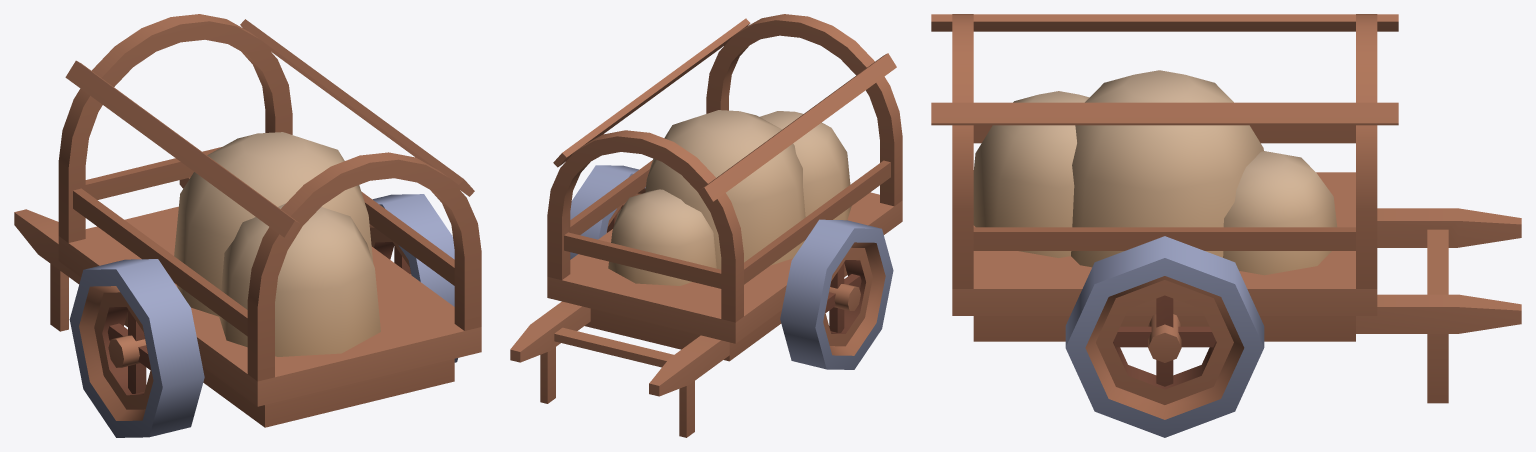
The model's file is T_cart-high.glb.
3 views of the same model, side by side, from view 1: azimuth 30°, elevation 25°; view 2: azimuth 150°, elevation 25°; view 3: azimuth 270°, elevation 25° (orthographic). The views are drawn at different scales.
Parts seen in each view (by area): view 1: cart-high, Group (×2); view 2: cart-high, Group (×2); view 3: cart-high, Group.
Part boxes in pixels (left/top/right/bottom): cart-high: left=14, top=14, right=481, bottom=427; Group (×2): left=69, top=194, right=457, bottom=437; cart-high: left=510, top=14, right=902, bottom=437; Group (×2): left=570, top=165, right=893, bottom=369; cart-high: left=931, top=14, right=1521, bottom=403; Group: left=1065, top=236, right=1264, bottom=437.
Bounding box in the file's own units: 0.893 × 0.8605 × 1.39.
